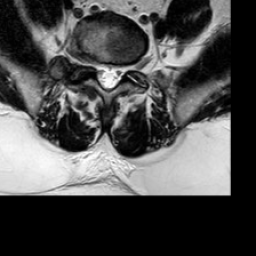CCS_normal: (104, 51, 113, 98)
LFS_stenosis: (124, 51, 132, 80)
LLS_normal: (113, 53, 124, 89)
RFS_normal: (85, 45, 94, 75)
RLS_normal: (94, 50, 104, 92)
